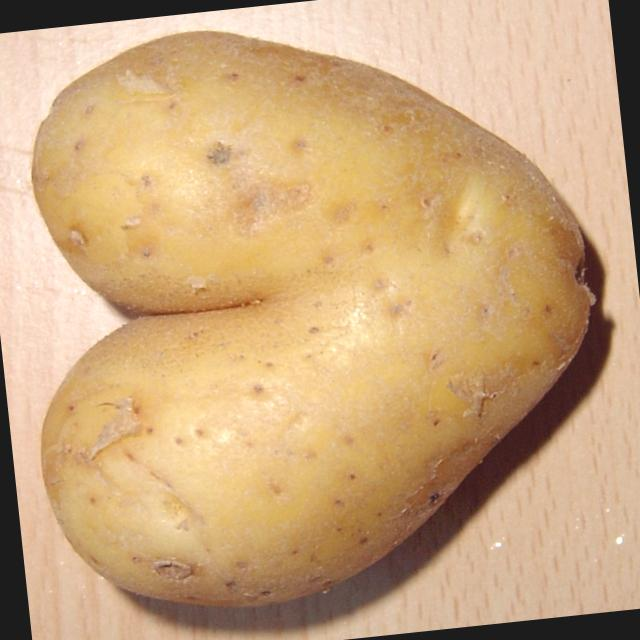potato: (0, 0, 629, 620)
